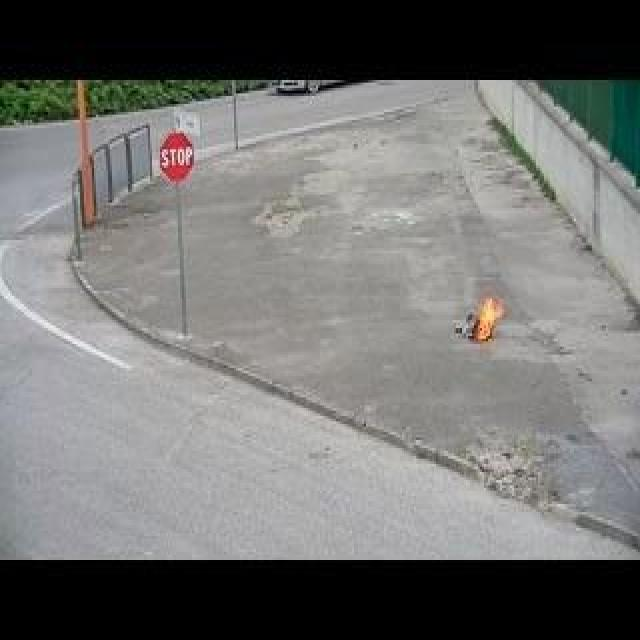Fire: (472, 293, 504, 339)
